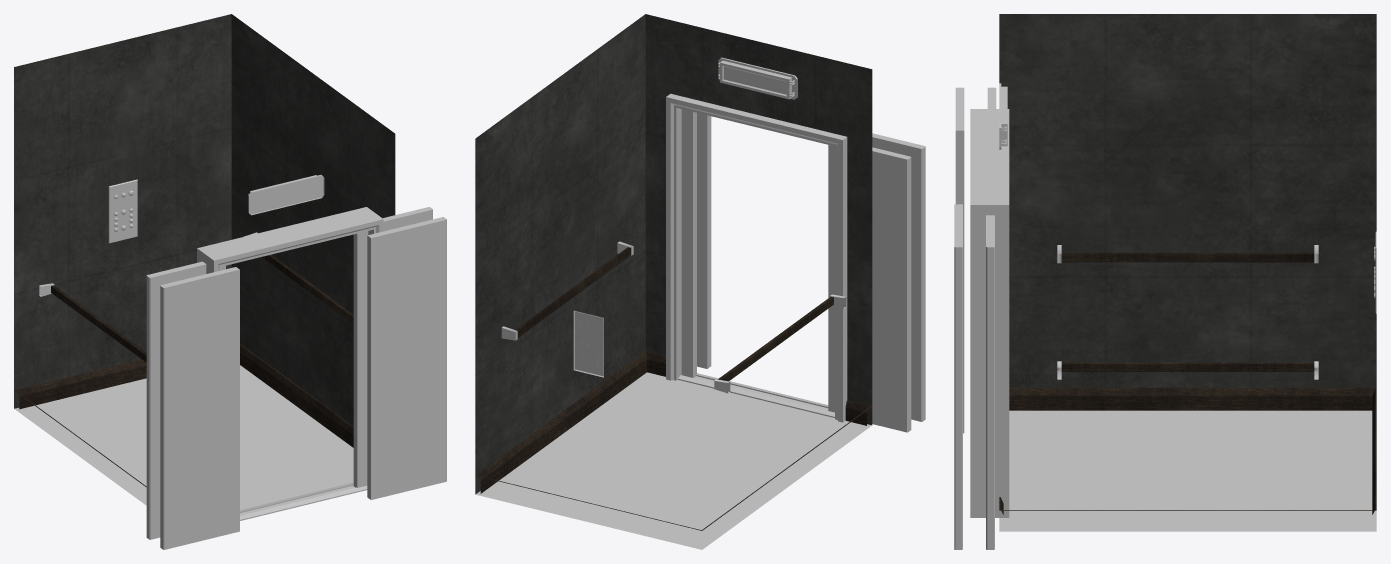
The model's file is elevator_1.fbx.
3 renders of one model, left to right at view 1: azimuth 30°, elevation 25°; view 2: azimuth 150°, elevation 25°; view 3: azimuth 270°, elevation 25°, orthographic. The views are drawn at different scales.
Visible parts, largest first — view 1: elevator_1, elevator_door_1_a, elevator_door_1_b, elevator_door_2_b, elevator_door_2_a; view 2: elevator_1, elevator_door_2_b, elevator_door_1_b, elevator_door_2_a, elevator_door_1_a; view 3: elevator_1, elevator_door_1_a, elevator_door_2_a, elevator_door_1_b.
Part boxes in pixels (box(x1,y1,x2,y2)): elevator_1: box(14, 14, 395, 520); elevator_door_1_a: box(367, 217, 446, 499); elevator_door_1_b: box(160, 267, 239, 549); elevator_door_2_b: box(146, 261, 225, 539); elevator_door_2_a: box(353, 207, 432, 487); elevator_1: box(475, 14, 872, 549); elevator_door_2_b: box(828, 145, 911, 432); elevator_door_1_b: box(872, 133, 925, 421); elevator_door_2_a: box(681, 109, 696, 377); elevator_door_1_a: box(697, 113, 711, 368); elevator_1: box(970, 14, 1376, 531); elevator_door_1_a: box(954, 204, 962, 549); elevator_door_2_a: box(986, 215, 994, 549); elevator_door_1_b: box(955, 87, 964, 433).
Size of the model in its own units: 2.6 by 2.91 by 3.
